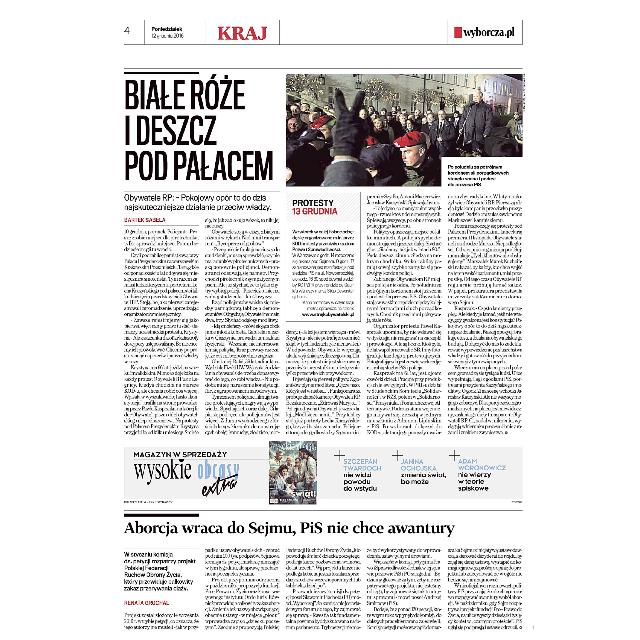article: (121, 70, 526, 440), (122, 512, 526, 636)
